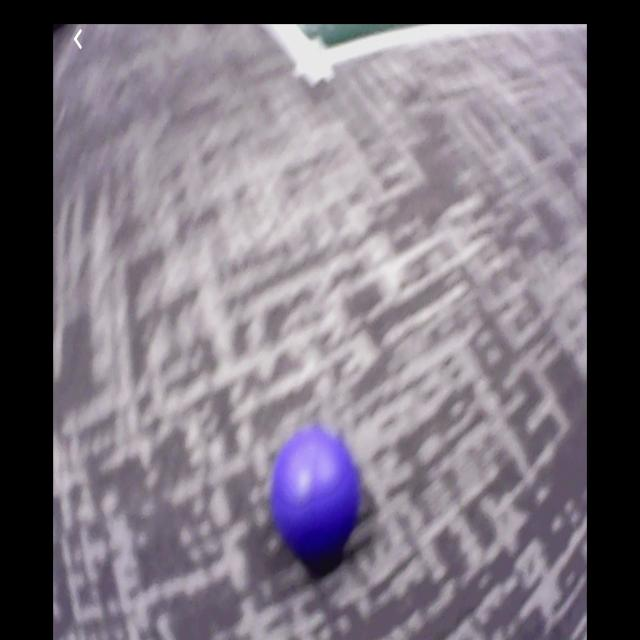ball: (274, 424, 359, 558)
